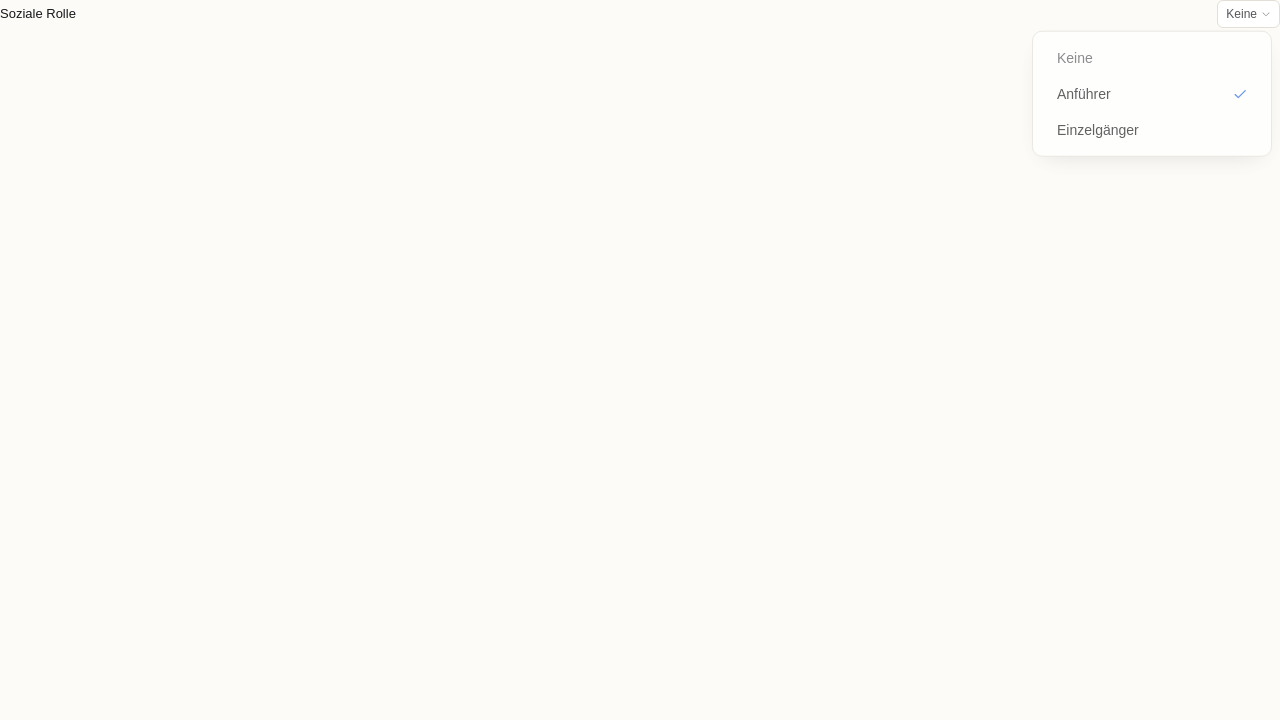
Test: InspectorSelect › sets the chosen value, closes the menu and returns the focus
The image size is (1280, 720).
Click the button with aria-label "Soziale Rolle:" at [1249, 14], box [1217,0,1279,28]
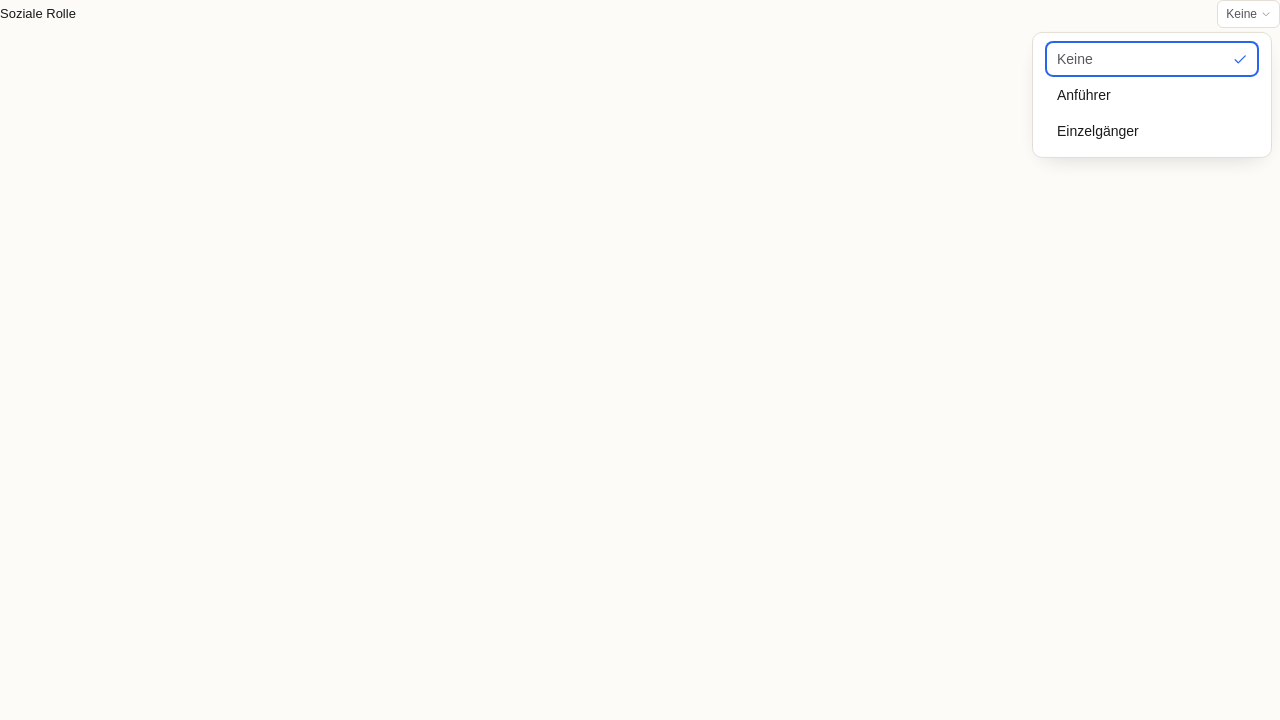
Click the button "Einzelgänger" at [1152, 131], box [1045,113,1259,149]
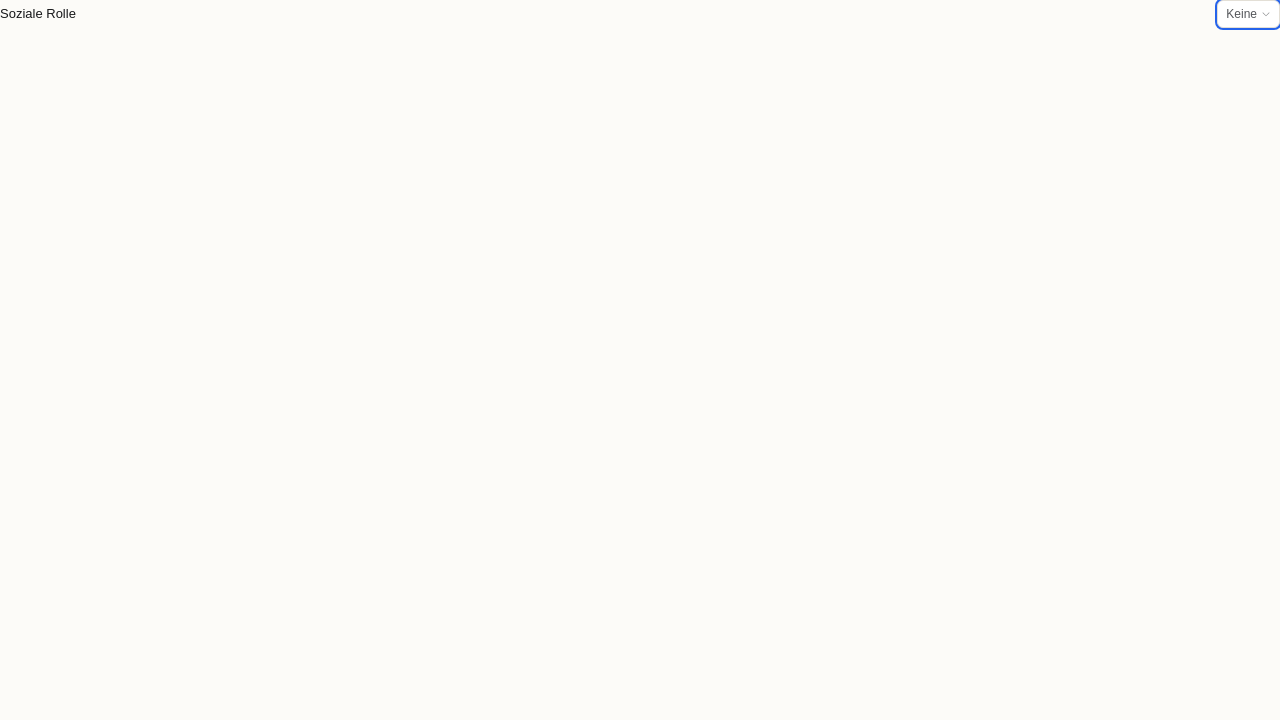
Expected: the dialog is gone
